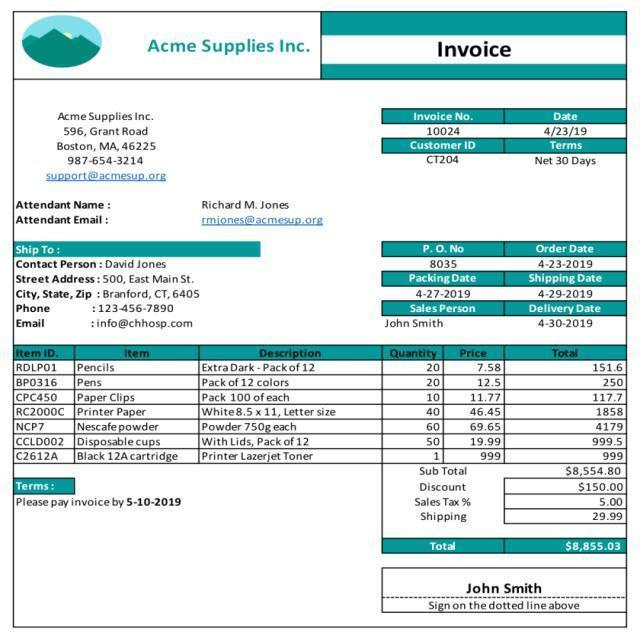paragraph: (378, 464, 629, 558), (11, 242, 256, 336), (382, 105, 626, 169), (378, 569, 624, 621), (38, 107, 182, 188), (11, 200, 332, 234), (13, 475, 202, 516), (148, 35, 308, 59), (378, 304, 491, 334), (514, 275, 619, 304), (384, 303, 493, 329), (516, 305, 613, 334), (403, 242, 486, 272), (432, 35, 515, 64), (393, 275, 490, 299), (532, 243, 608, 272)
table: (11, 346, 629, 462)
